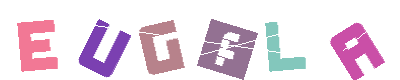9: (162, 0, 242, 80)
A: (315, 0, 395, 80)
E: (16, 0, 96, 80)
G: (159, 0, 239, 80)
L: (232, 0, 312, 80)
U: (62, 0, 142, 80)
